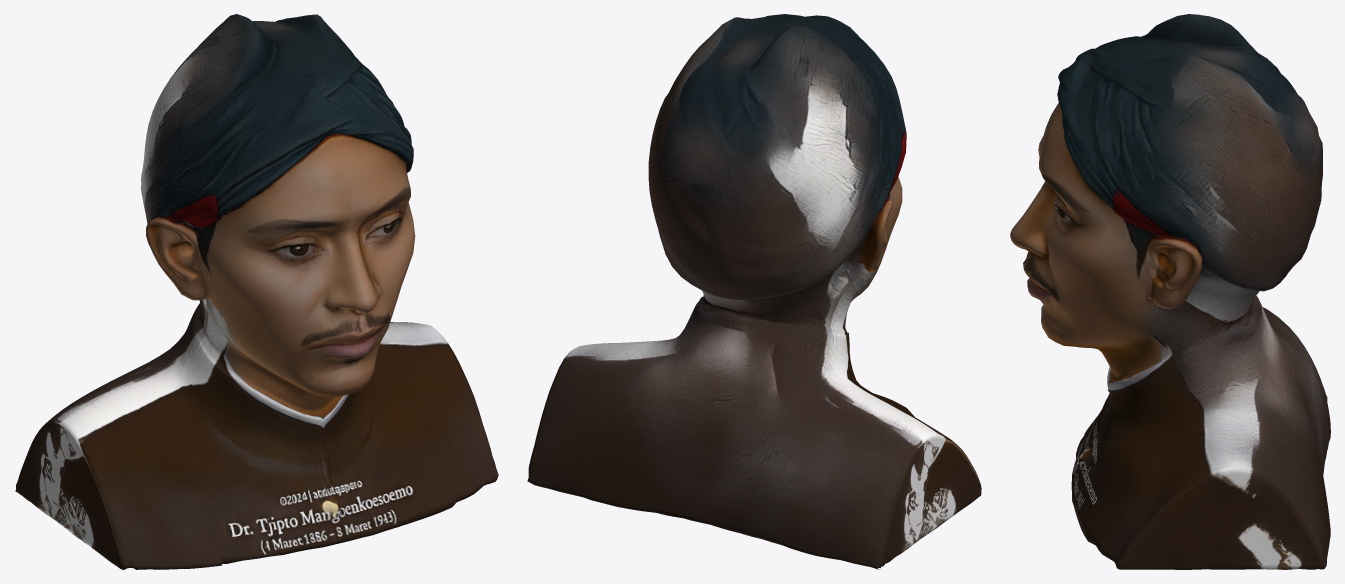
The model's file is cipto.glb.
The picture shows the model from 3 angles, left to right: view 1: azimuth 30°, elevation 25°; view 2: azimuth 150°, elevation 25°; view 3: azimuth 270°, elevation 25°; orthographic projection. The views are drawn at different scales.
Visible parts, largest first — view 1: model; view 2: model; view 3: model.
Boxes of the visible parts, left/top/right/bottom form: model: left=15, top=14, right=498, bottom=569; model: left=527, top=14, right=981, bottom=569; model: left=1010, top=14, right=1330, bottom=569.
Size of the model in its own units: 1.54 by 1.89 by 1.2.
1 material, 1 textured.
